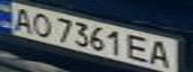1: (103, 28, 124, 57)
3: (69, 20, 90, 48)
6: (87, 25, 106, 53)
7: (51, 15, 75, 44)
A: (148, 38, 178, 70), (6, 4, 39, 33)
E: (124, 33, 151, 63)
O: (27, 10, 57, 38)
